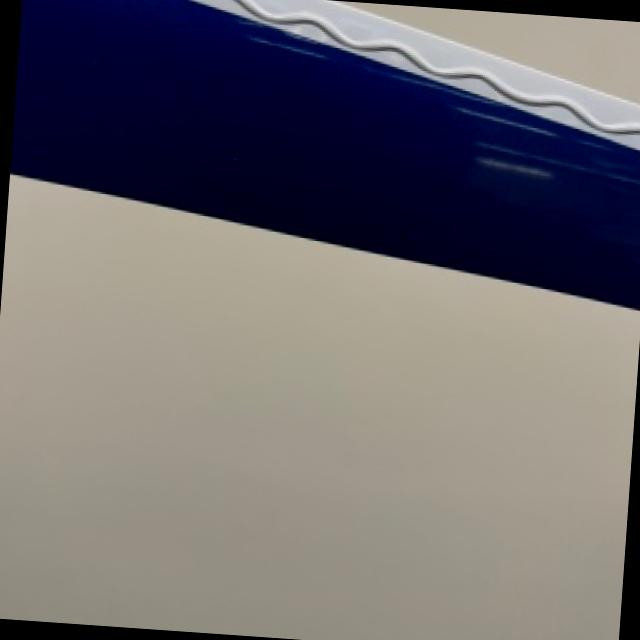healthy: (0, 175, 639, 640), (10, 0, 640, 304)
